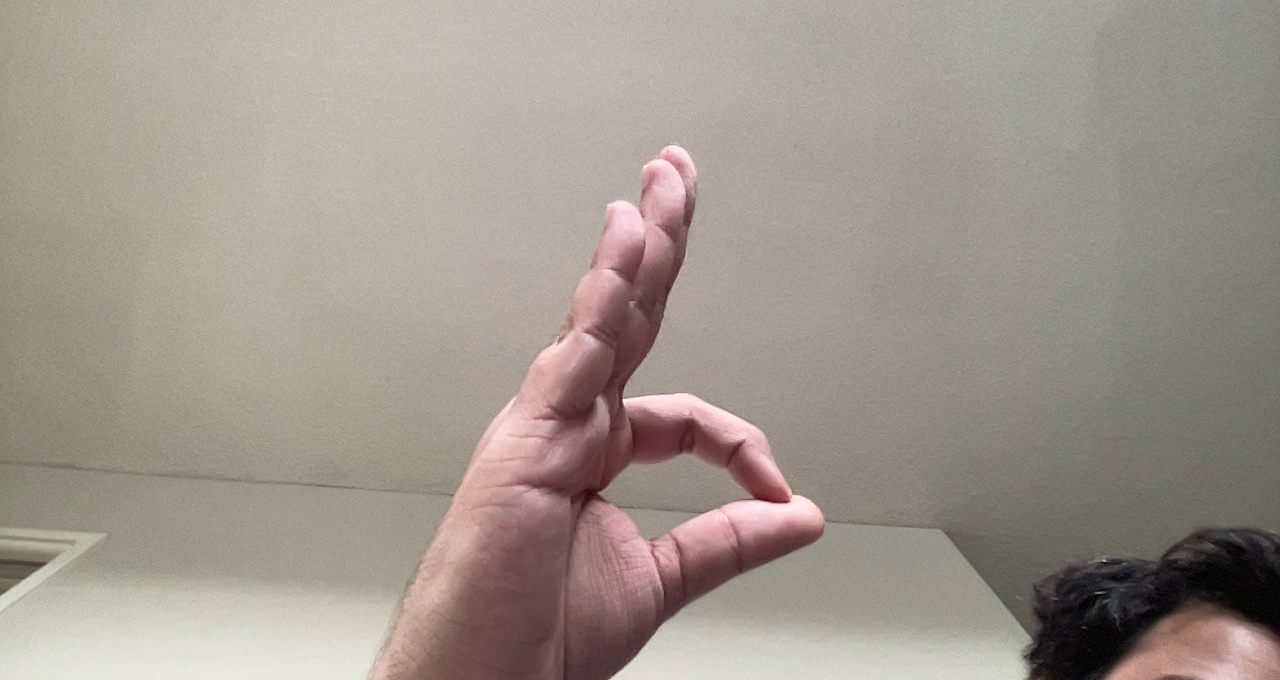ok: (399, 142, 825, 671)
